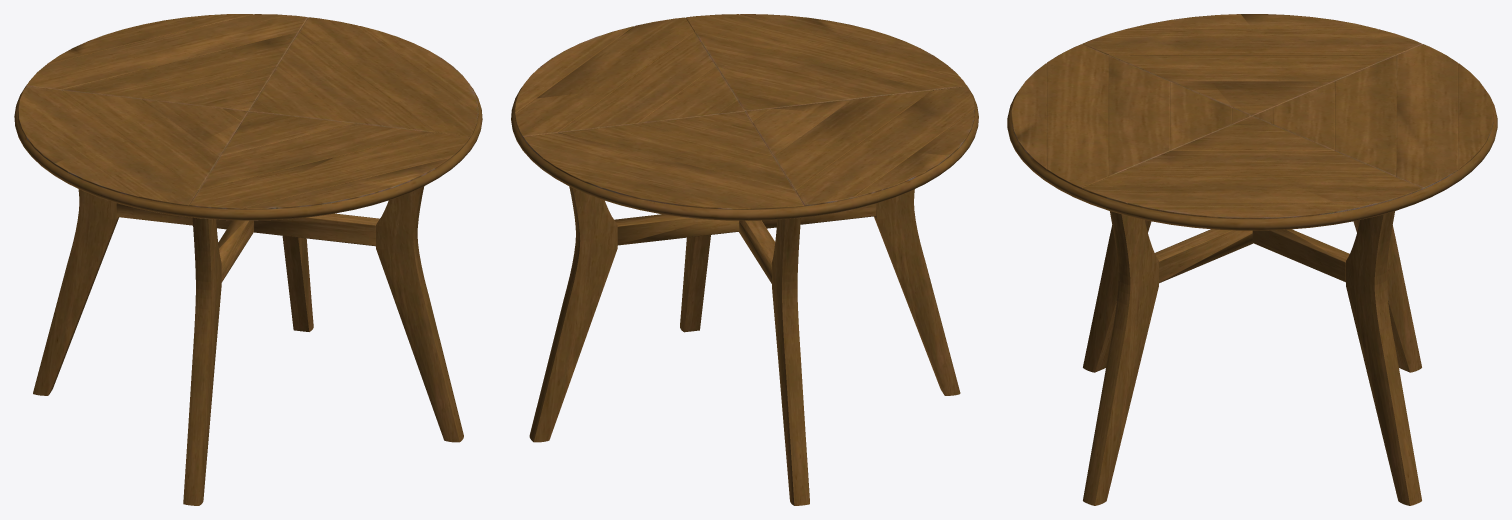
File: B07B78LZQC.glb
3 renders of one model, left to right at view 1: azimuth 30°, elevation 25°; view 2: azimuth 150°, elevation 25°; view 3: azimuth 270°, elevation 25°, orthographic. The views are drawn at different scales.
Visible parts, largest first — view 1: RootNode; view 2: RootNode; view 3: RootNode.
Part boxes in pixels (<box>): RootNode: <box>14,14,482,505</box>; RootNode: <box>511,14,978,505</box>; RootNode: <box>1007,14,1497,505</box>.
Bounding box in the file's own units: 1.05 × 0.7566 × 1.05.
Materials: 1 (1 with a texture image).
